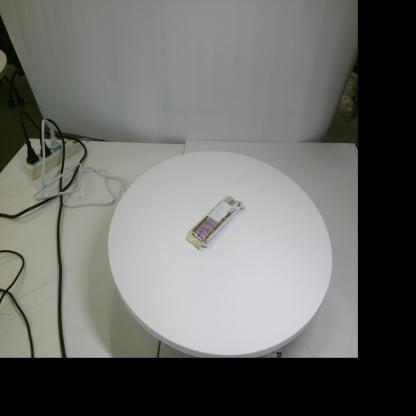Chocolate: (185, 196, 246, 249)
